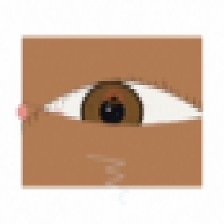foreign_body_visible: (93, 83, 134, 115)
